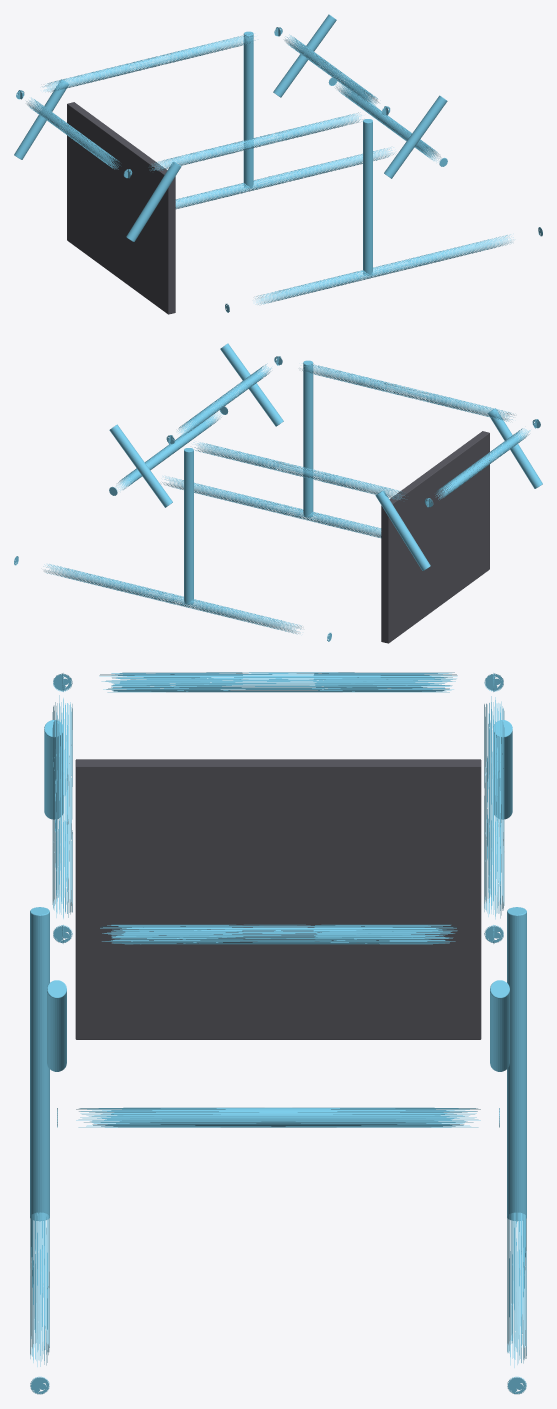
File: body-framework.glb
3 renders of one model, top to bottom at view 1: azimuth 30°, elevation 25°; view 2: azimuth 150°, elevation 25°; view 3: azimuth 270°, elevation 25°, orthographic. The views are drawn at different scales.
Parts seen in each view (by area): view 1: Tailgate_Aperture_Frame, Body_Sill_R, Roof_Rail_L, Roof_Rail_R, Body_Sill_L, B_Pillar_L, B_Pillar_R, Roof_Header_Front, Roof_Header_Rear, Cowl_Bar_Front, A_Pillar_R, C_Pillar_R (+2 smaller); view 2: Tailgate_Aperture_Frame, Body_Sill_L, Roof_Rail_R, Roof_Rail_L, Body_Sill_R, B_Pillar_R, B_Pillar_L, Roof_Header_Rear, Roof_Header_Front, Cowl_Bar_Front, A_Pillar_L, C_Pillar_L (+2 smaller); view 3: Tailgate_Aperture_Frame, Cowl_Bar_Front, Roof_Header_Rear, Roof_Header_Front, B_Pillar_R, B_Pillar_L, Roof_Rail_L, Roof_Rail_R, Body_Sill_R, Body_Sill_L, A_Pillar_L, A_Pillar_R (+2 smaller).
Boxes of the visible parts, x1,y1,x2,y2 form: Tailgate_Aperture_Frame: [67, 102, 175, 314]; Body_Sill_R: [225, 227, 542, 312]; Roof_Rail_L: [18, 27, 280, 99]; Roof_Rail_R: [126, 106, 388, 178]; Body_Sill_L: [175, 147, 394, 209]; B_Pillar_L: [243, 31, 253, 188]; B_Pillar_R: [363, 119, 372, 275]; Roof_Header_Front: [274, 27, 390, 115]; Roof_Header_Rear: [16, 90, 132, 178]; Cowl_Bar_Front: [328, 77, 447, 166]; A_Pillar_R: [384, 95, 447, 178]; C_Pillar_R: [126, 162, 181, 241]; Tailgate_Aperture_Frame: [381, 431, 489, 643]; Body_Sill_L: [14, 556, 331, 641]; Roof_Rail_R: [276, 356, 538, 428]; Roof_Rail_L: [168, 435, 430, 507]; Body_Sill_R: [162, 476, 381, 538]; B_Pillar_R: [303, 360, 313, 517]; B_Pillar_L: [184, 448, 193, 604]; Roof_Header_Rear: [424, 419, 540, 507]; Roof_Header_Front: [166, 356, 282, 444]; Cowl_Bar_Front: [109, 406, 228, 495]; A_Pillar_L: [109, 424, 172, 507]; C_Pillar_L: [375, 490, 430, 570]; Tailgate_Aperture_Frame: [75, 759, 481, 1039]; Cowl_Bar_Front: [57, 1107, 499, 1127]; Roof_Header_Rear: [62, 672, 494, 692]; Roof_Header_Front: [62, 924, 494, 944]; B_Pillar_R: [30, 907, 49, 1220]; B_Pillar_L: [507, 907, 526, 1221]; Roof_Rail_L: [484, 673, 504, 942]; Roof_Rail_R: [52, 673, 72, 942]; Body_Sill_R: [30, 1212, 49, 1394]; Body_Sill_L: [507, 1212, 526, 1394]; A_Pillar_L: [490, 980, 509, 1071]; A_Pillar_R: [47, 980, 66, 1071].
Size of the model in its own units: 3.34 by 1.26 by 1.75.
